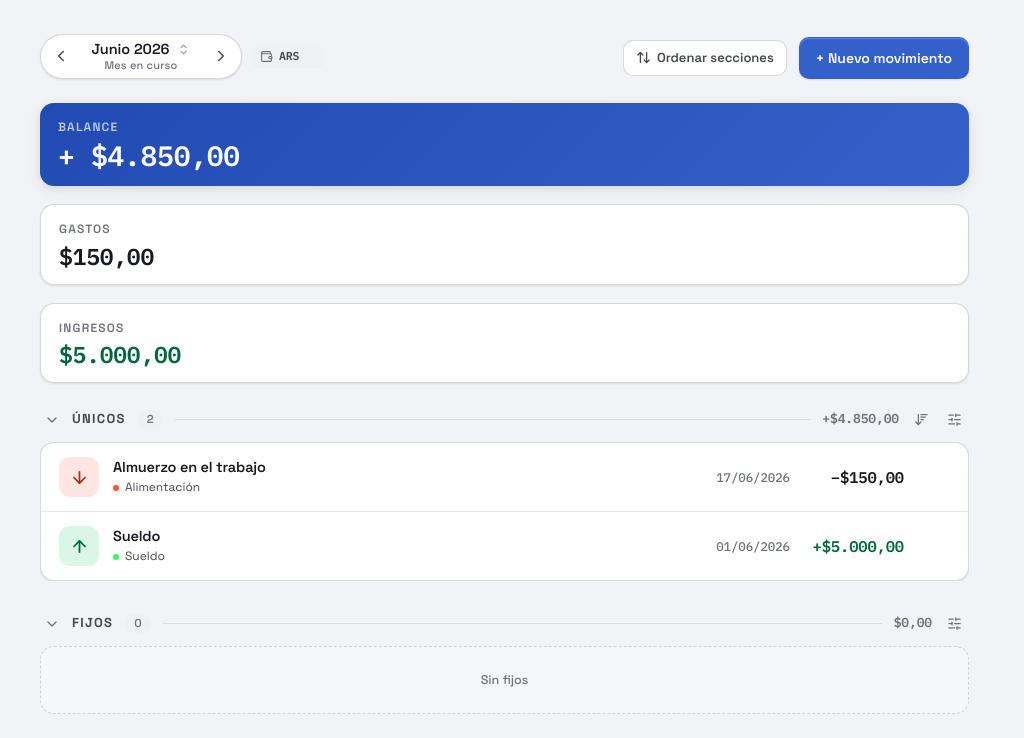
Test: MonthViewClient › Fase 1.1.4 P6 — Modo orden › al salir del modo orden se restaura el estado de colapso previo
The width and height of the screenshot is (1024, 738).
Colapsar manualmente "fijos" antes de entrar al modo orden
Step 1. Click the button "Fijos 0 $0,00" → (93, 623), box [40, 614, 936, 633]
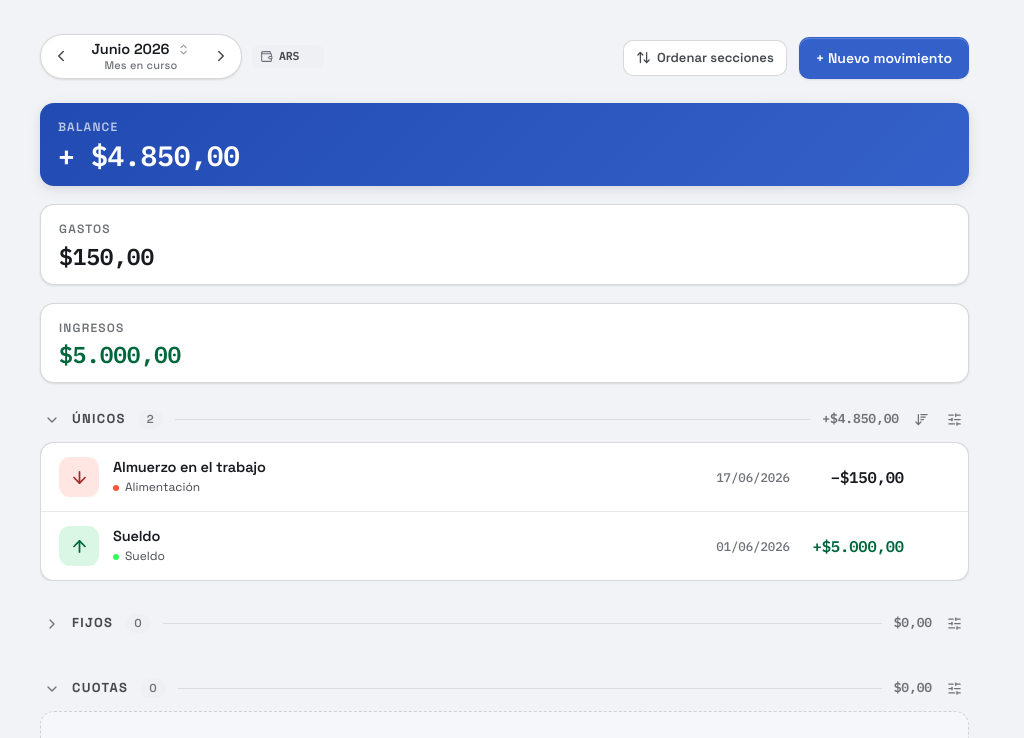
Check: the button "Fijos 0 $0,00" is collapsed, box [40, 614, 936, 633]
Entrar al modo orden (todas colapsan)
Step 2. Click the button "Ordenar secciones" → (705, 58), box [623, 40, 787, 76]
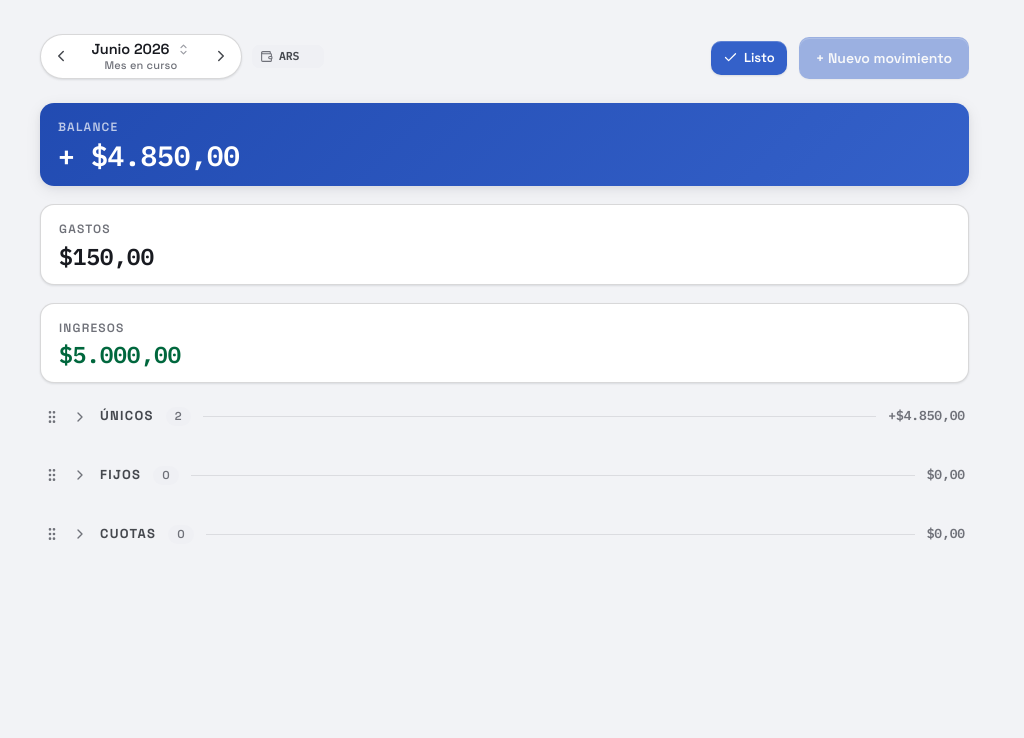
Check: the button "Fijos 0 $0,00" is collapsed, box [40, 466, 969, 485]
Check: the button "Únicos 2 +$4.850,00" is collapsed, box [40, 407, 969, 426]
Salir del modo orden (se restaura: únicos expandido, fijos colapsado)
Step 3. Click the button "Listo" → (749, 58), box [711, 40, 787, 75]
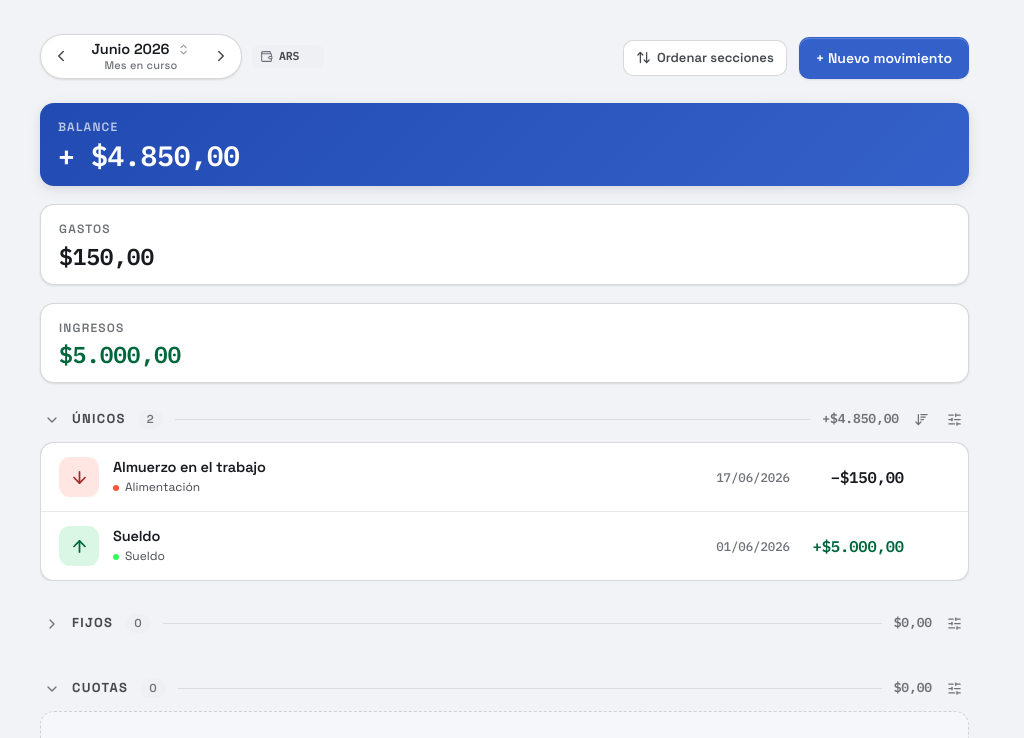
Check: the button "Fijos 0 $0,00" is collapsed, box [40, 614, 936, 633]
Check: the button "Únicos 2 +$4.850,00" is expanded, box [40, 410, 903, 429]
